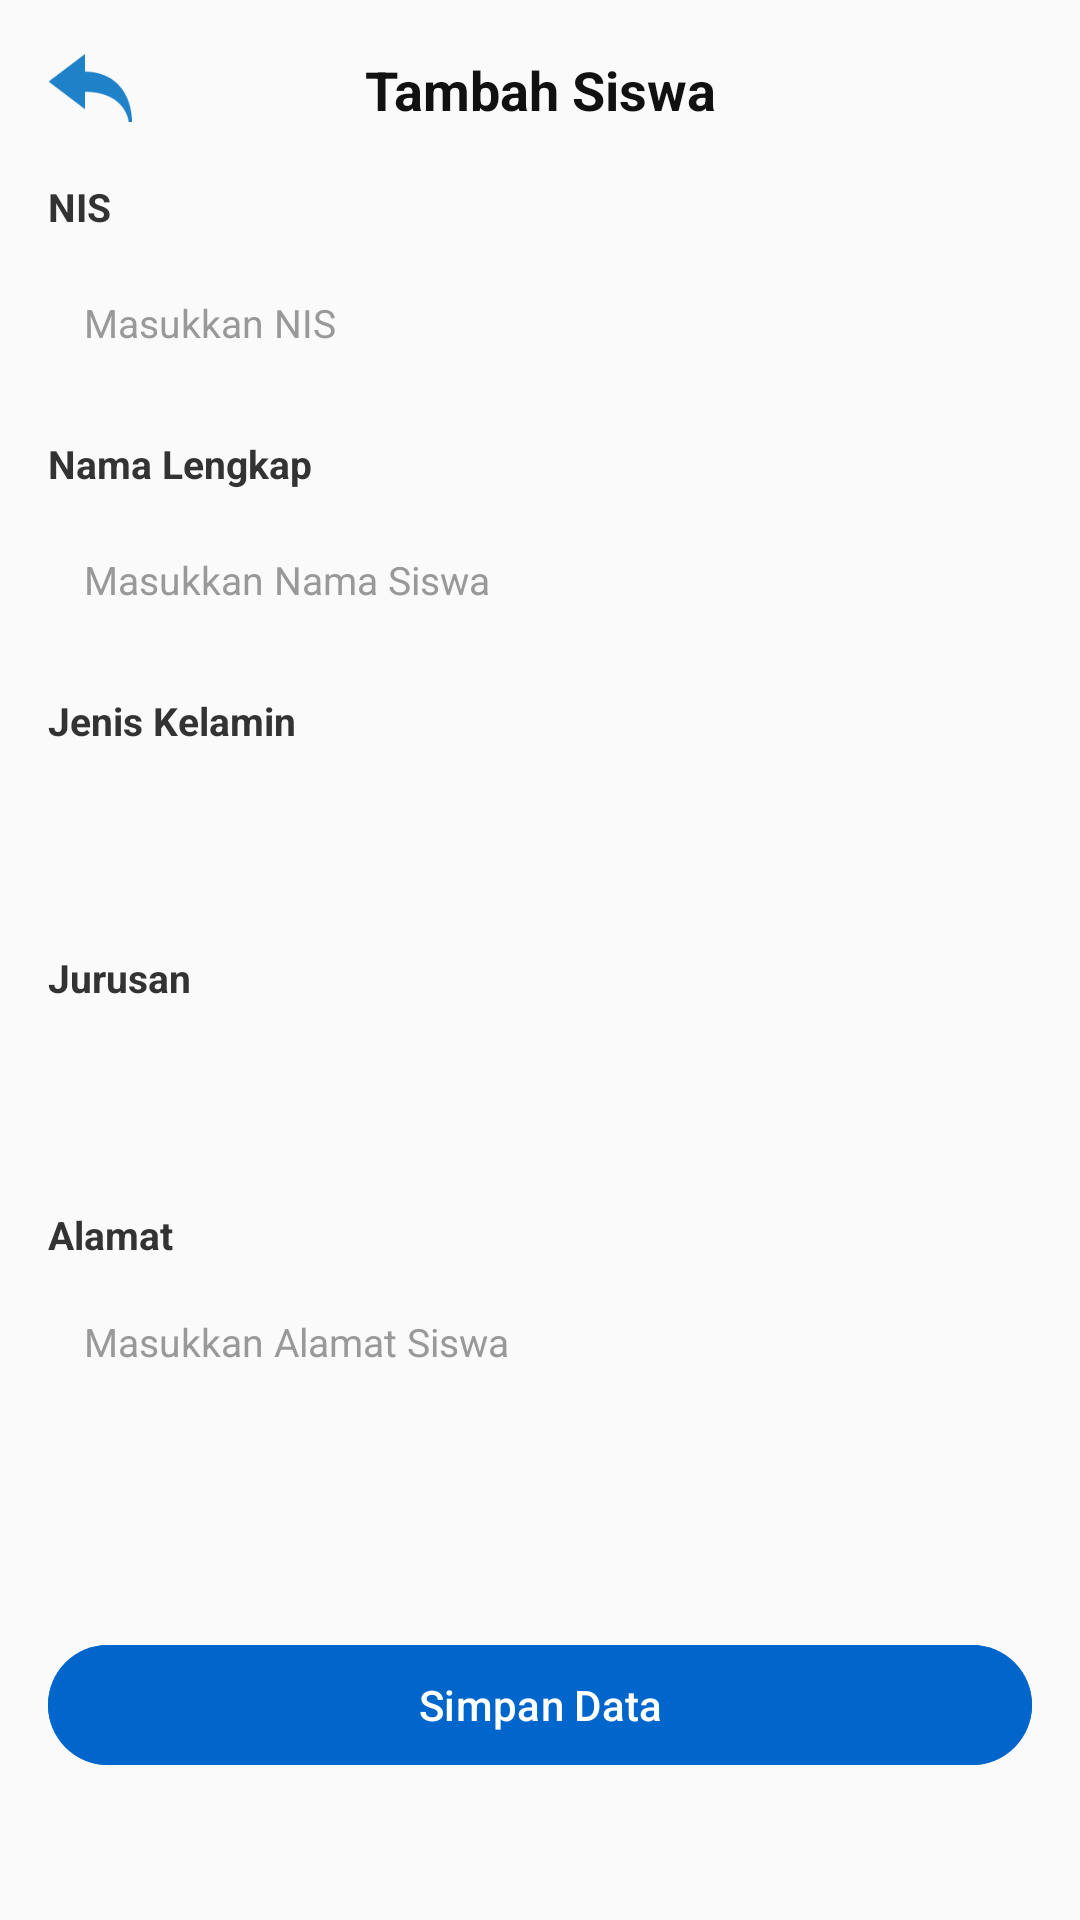

Named icons in this screenshot (1080*1920) and their bounding boxes, (x1, y1, x2, y2):
back: (49, 54, 132, 122)
